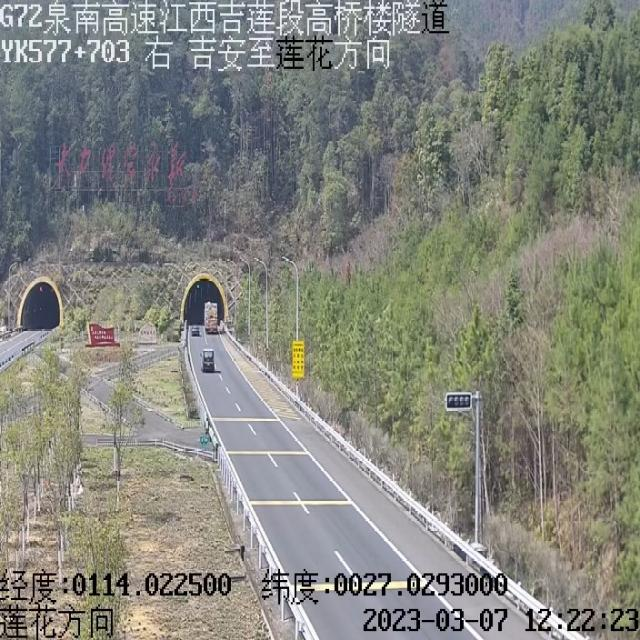point: (176, 267, 238, 346)
